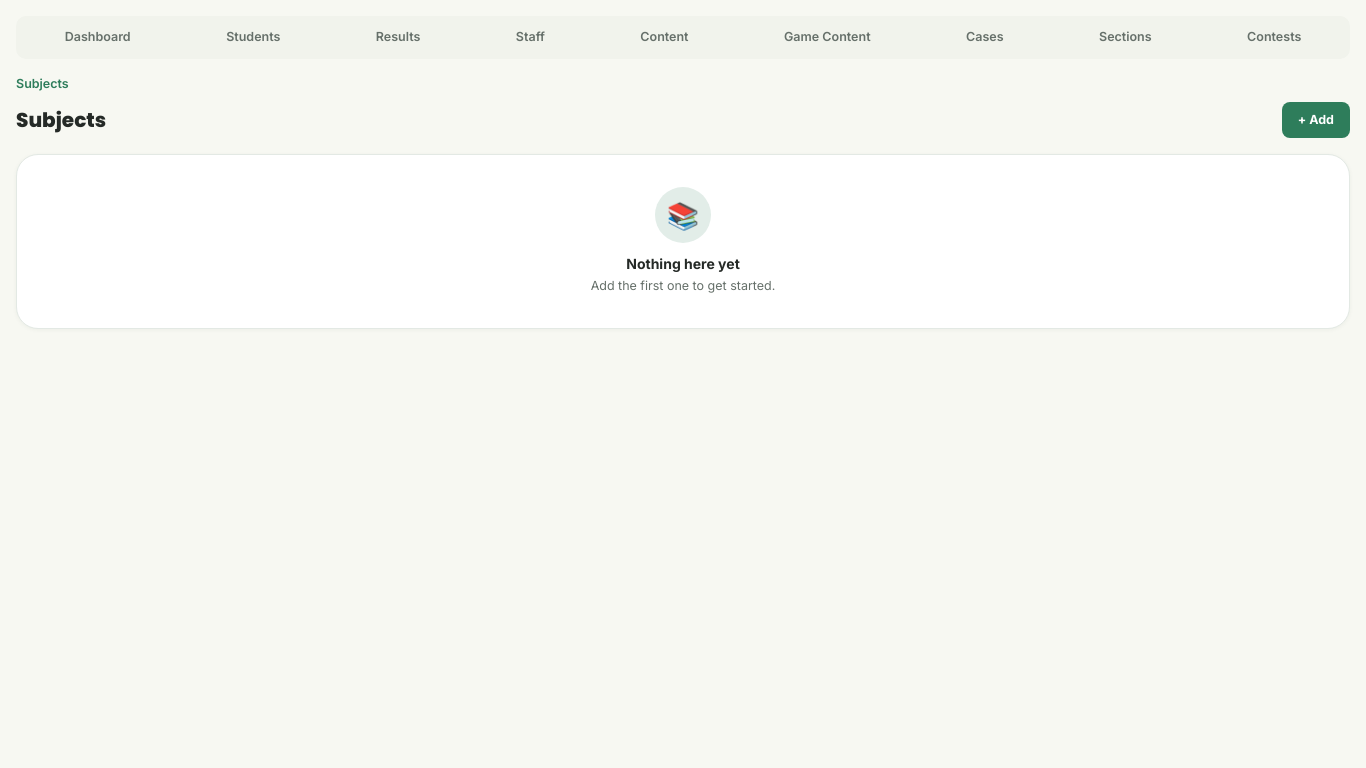
Test: AdminContent › creating a subject: opens create modal, saves name and grade, then reloads
Expected: the text "Nothing here yet" is shown, [626,255,740,272]
Click the button "+ Add" at (1316, 120), box [1282,102,1350,138]
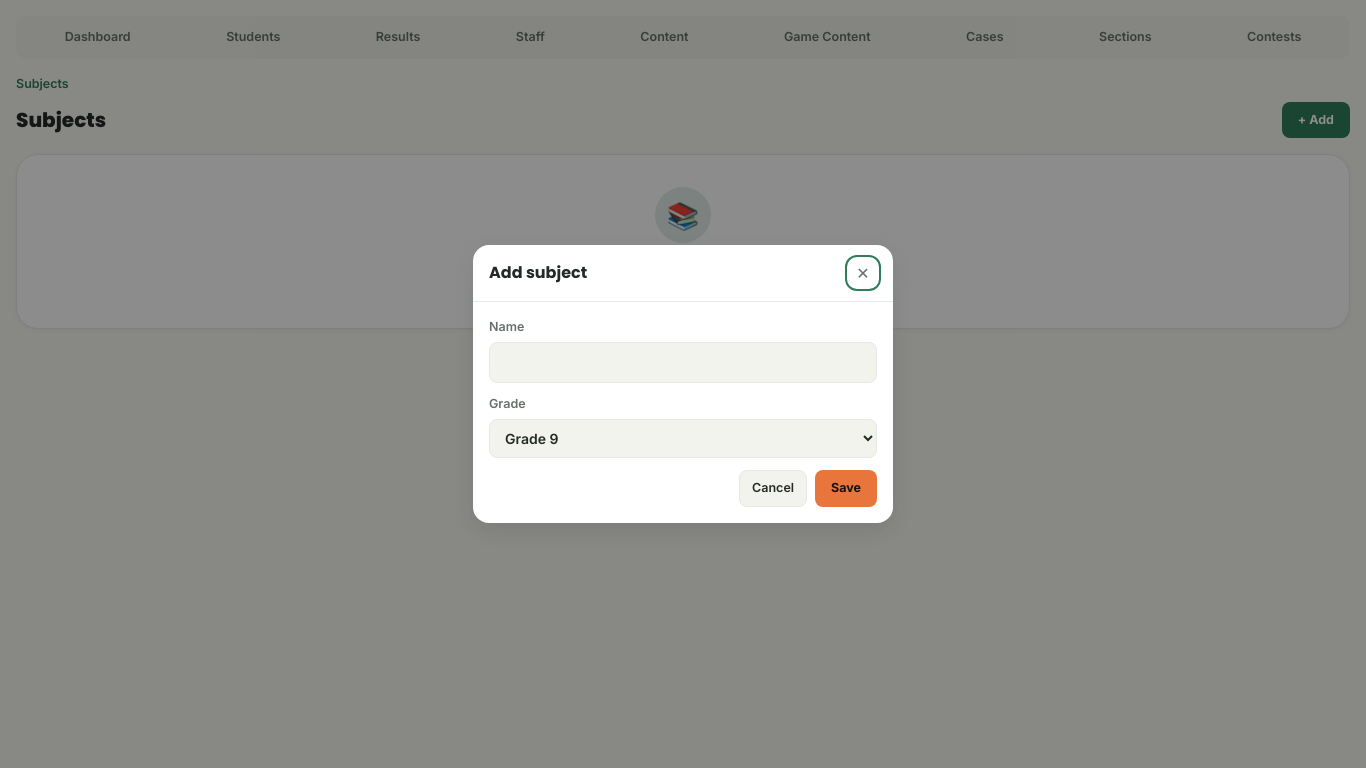
Now the text "Add subject" is shown, box [489,261,587,285]
Type "Mathematics" into the field labelled "Name" at (683, 363), box [489,342,877,383]
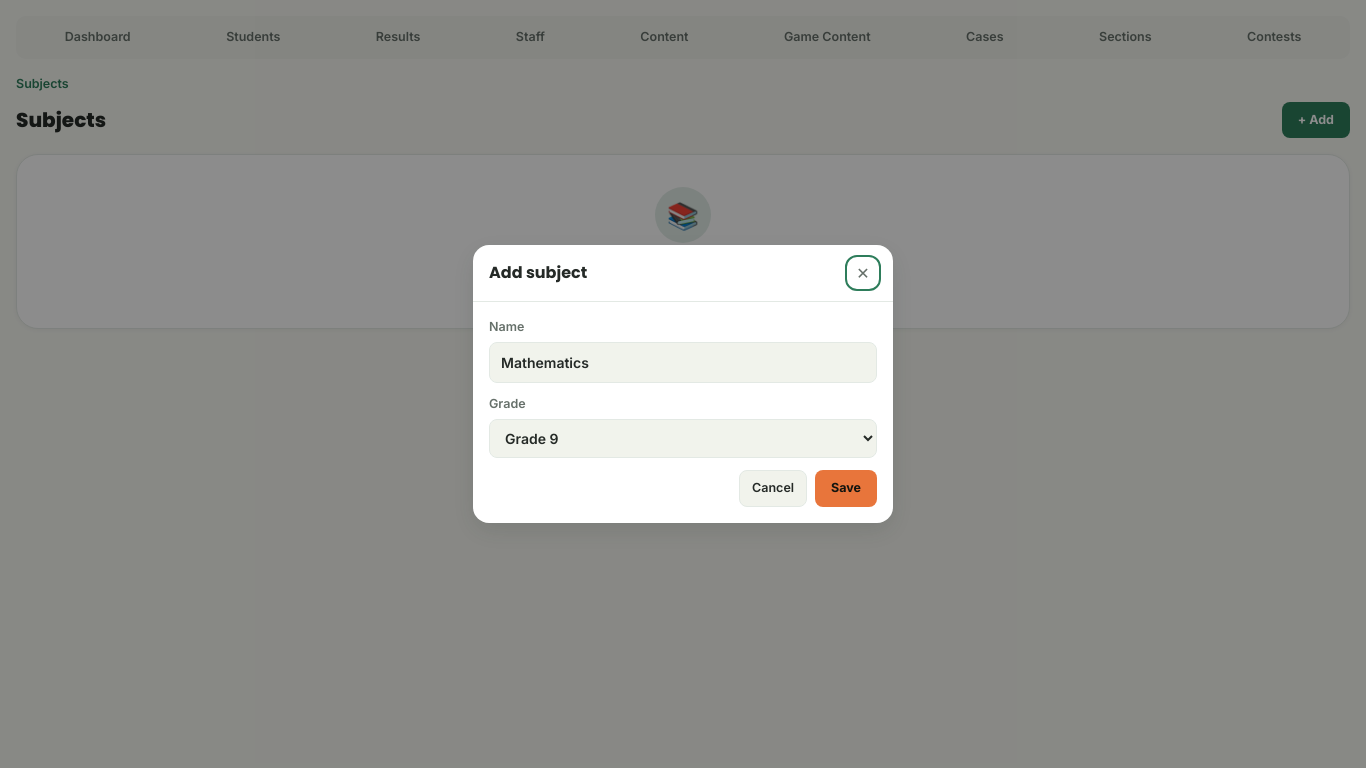
Select "Grade 6" in the dropdown labelled "Grade" at (683, 438), box [489,419,877,458]
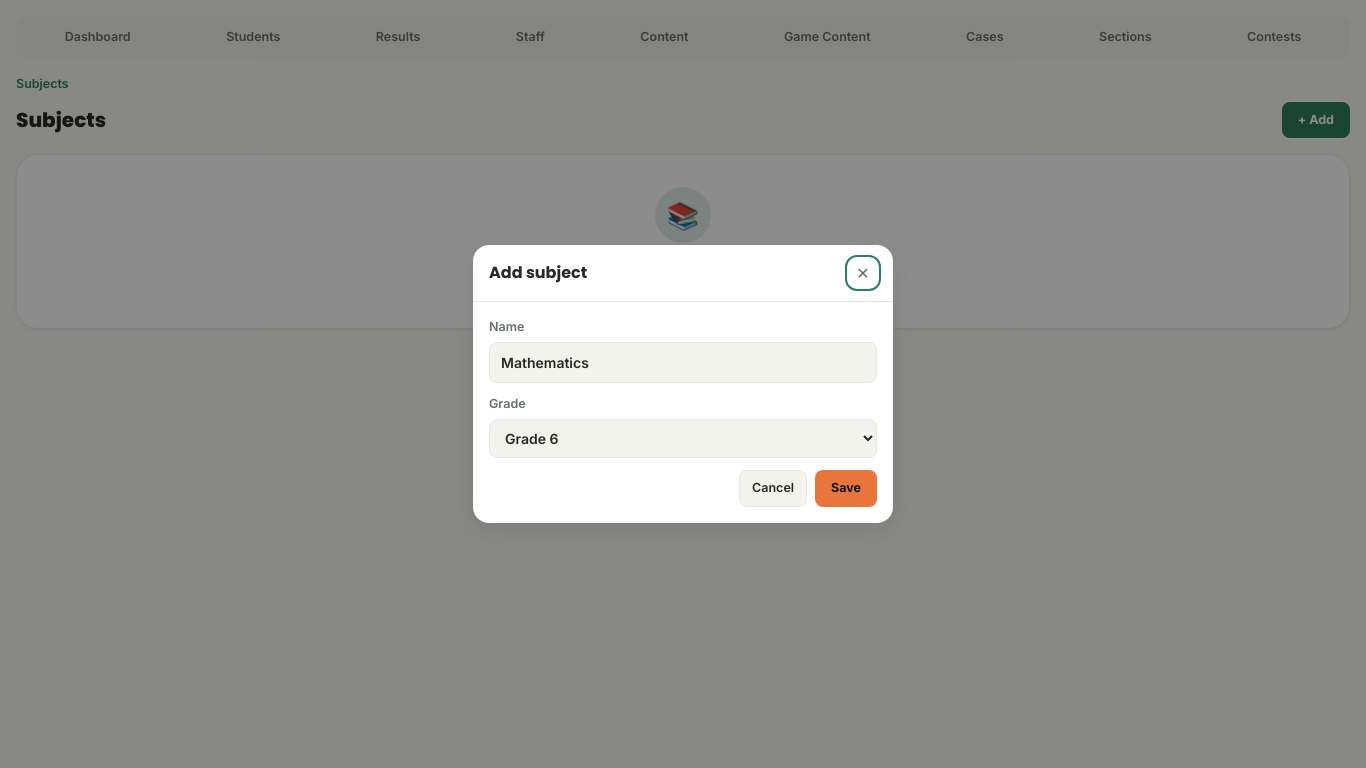
Click the button "Save" at (846, 488), box [815,470,877,507]
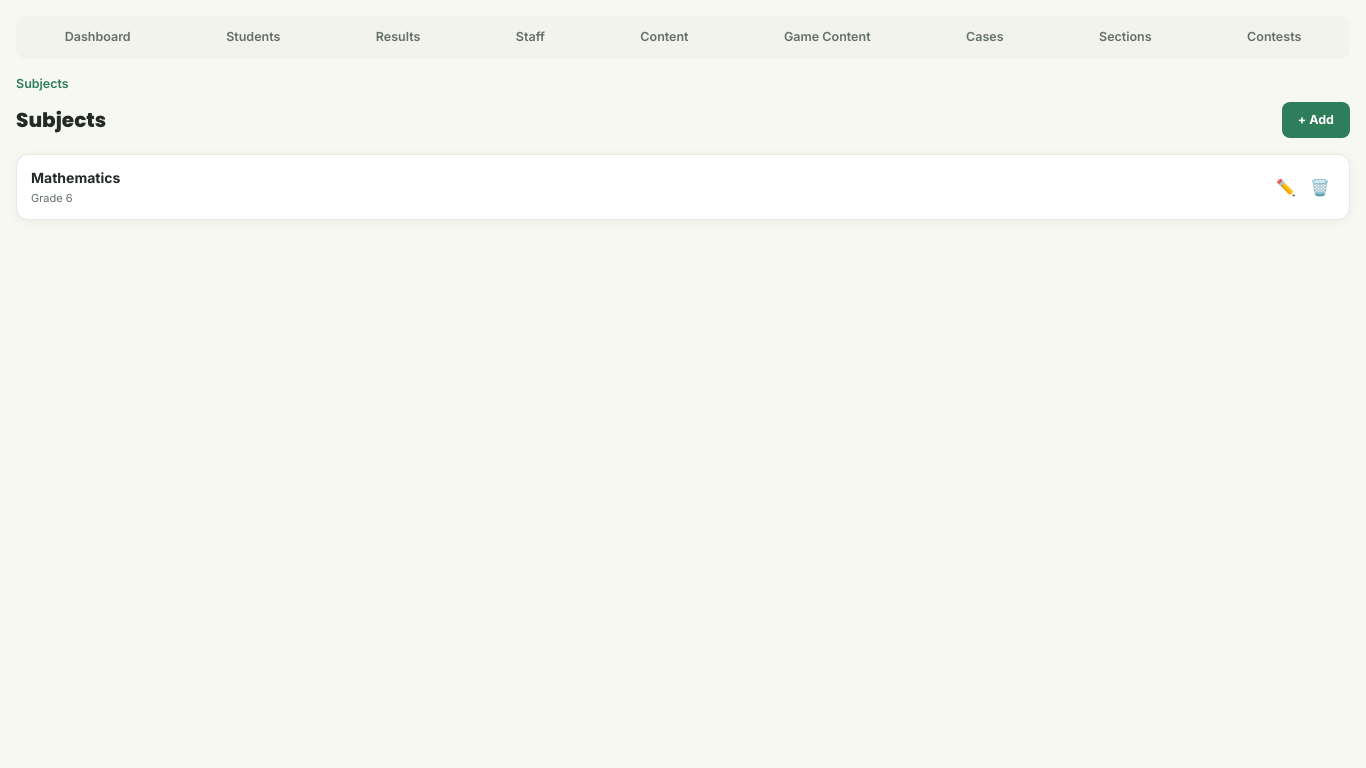
Now the text "Add subject" is gone
